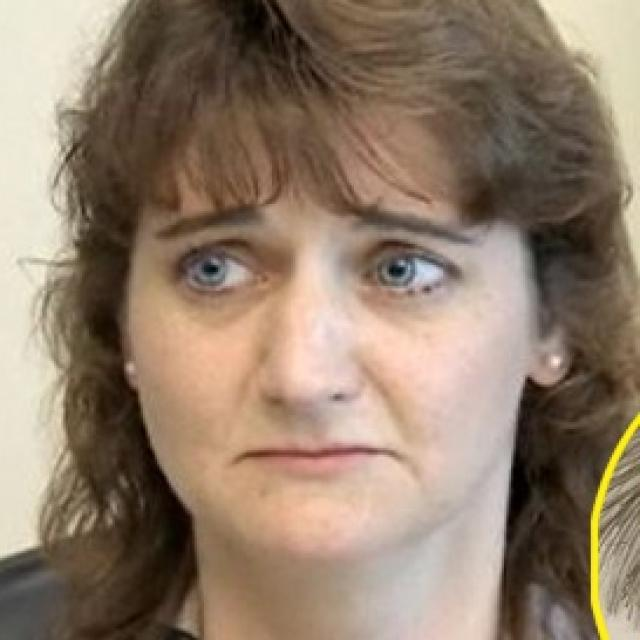Depress: (131, 57, 536, 556)
